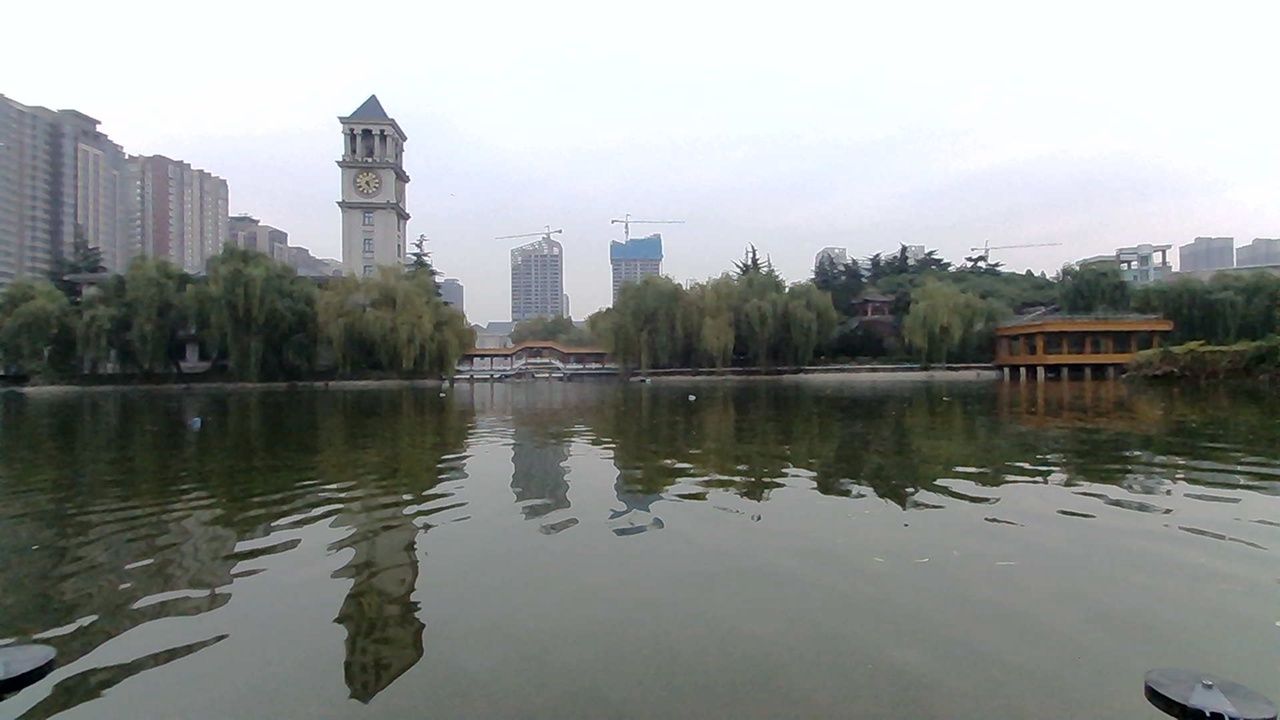bottle: (666, 385, 709, 409), (179, 411, 213, 433)
